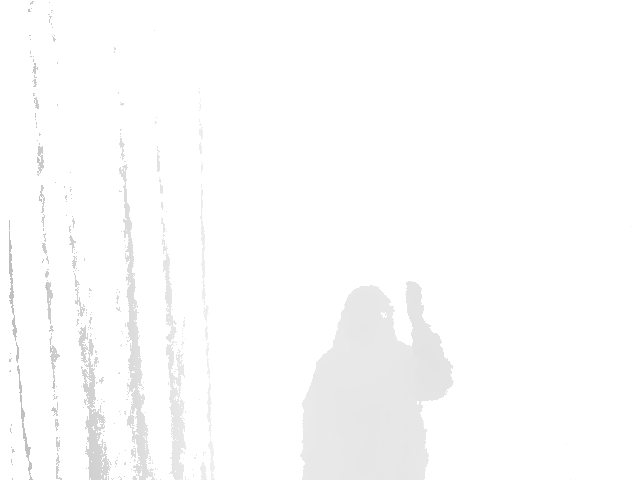hand: (404, 279, 426, 337)
head: (336, 284, 396, 344)
person: (298, 273, 453, 480)
